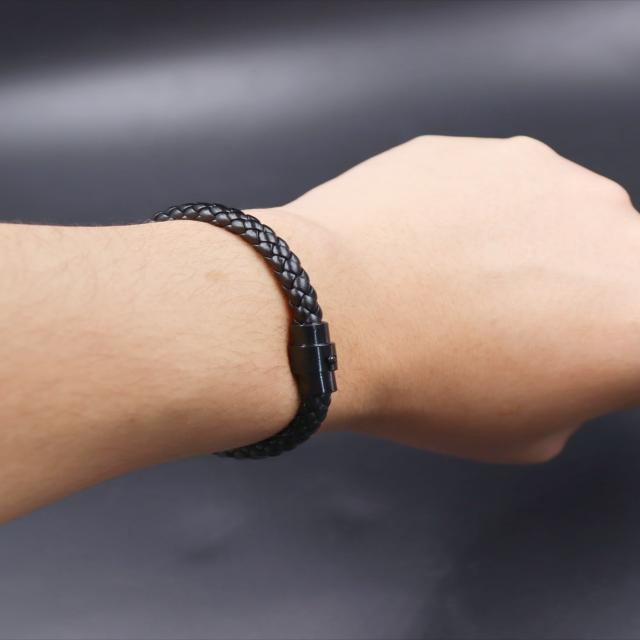bracelet: (116, 105, 464, 582)
